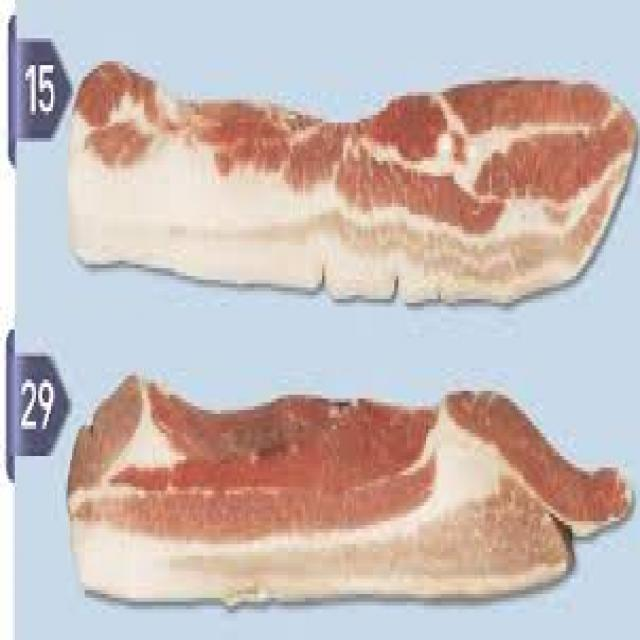Pork: (70, 61, 638, 301), (70, 376, 634, 604)
